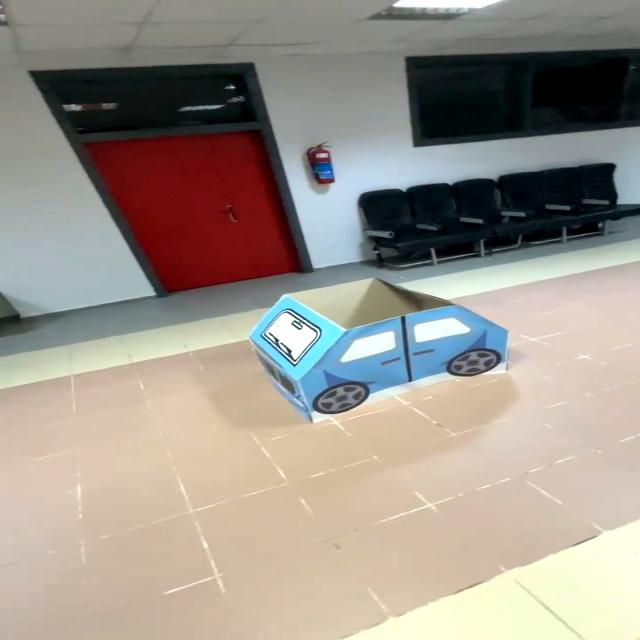blue_car: (215, 275, 539, 437)
